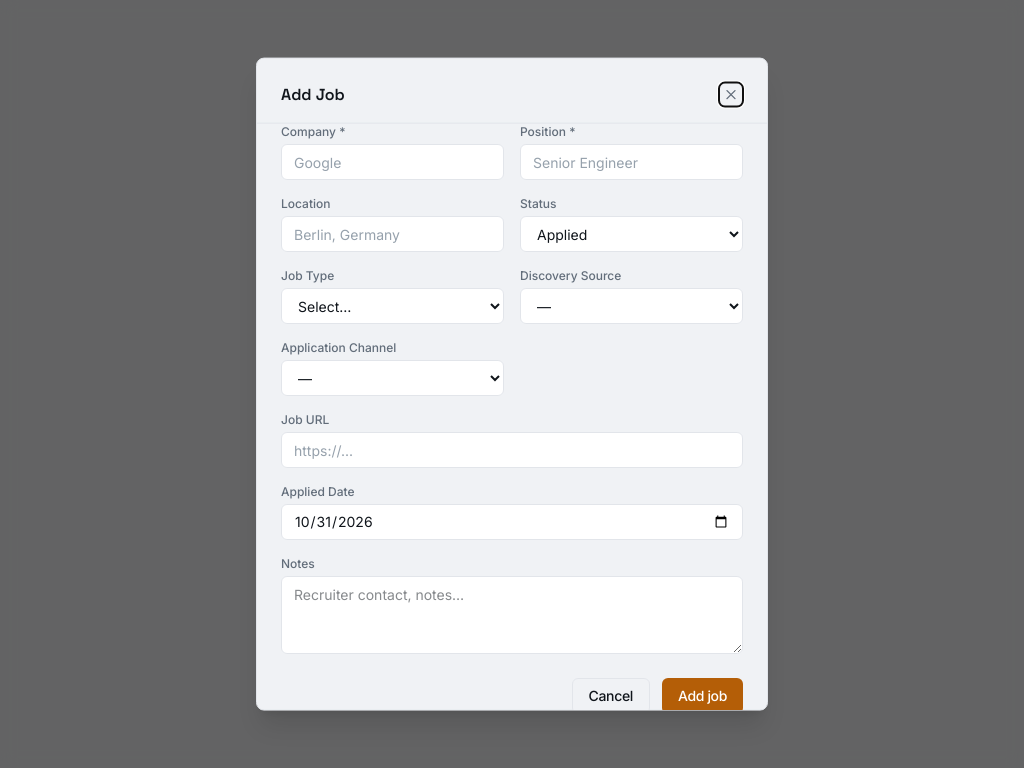
JobForm › validation › shows required-field errors when submitting blank
This screenshot has width=1024, height=768.
Click the button "Add job" at (702, 696), box [662, 678, 743, 714]
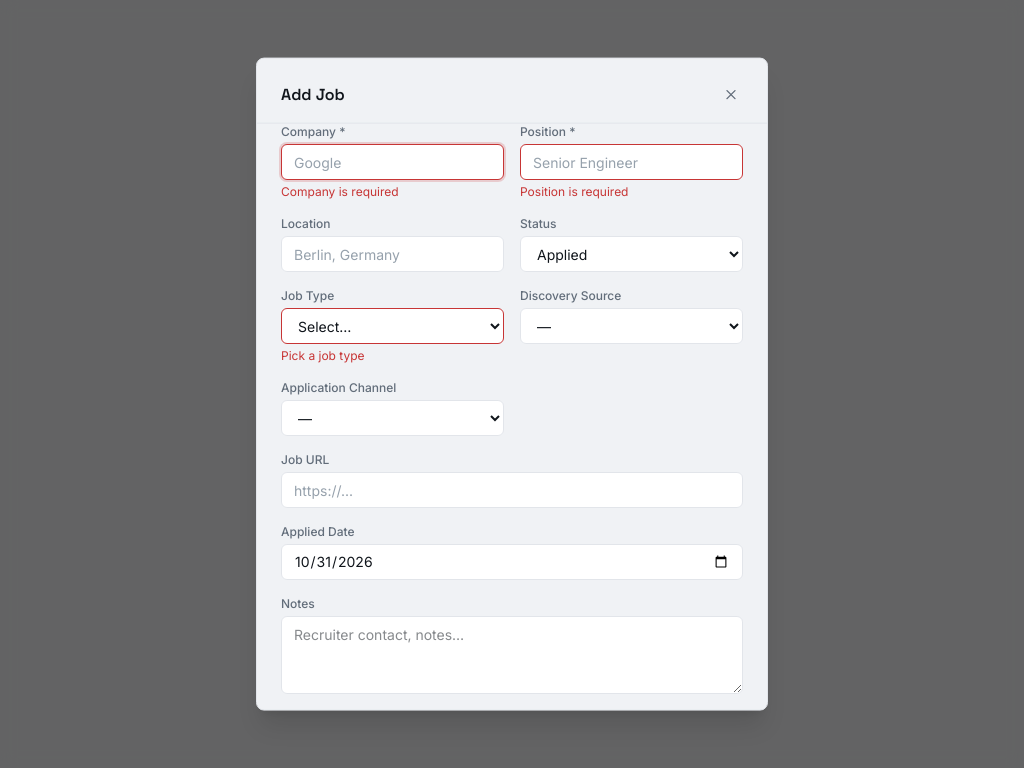
Check: the text "Company is required" is shown, box [281, 184, 399, 199]
Check: the text "Position is required" is shown, box [520, 184, 628, 199]
